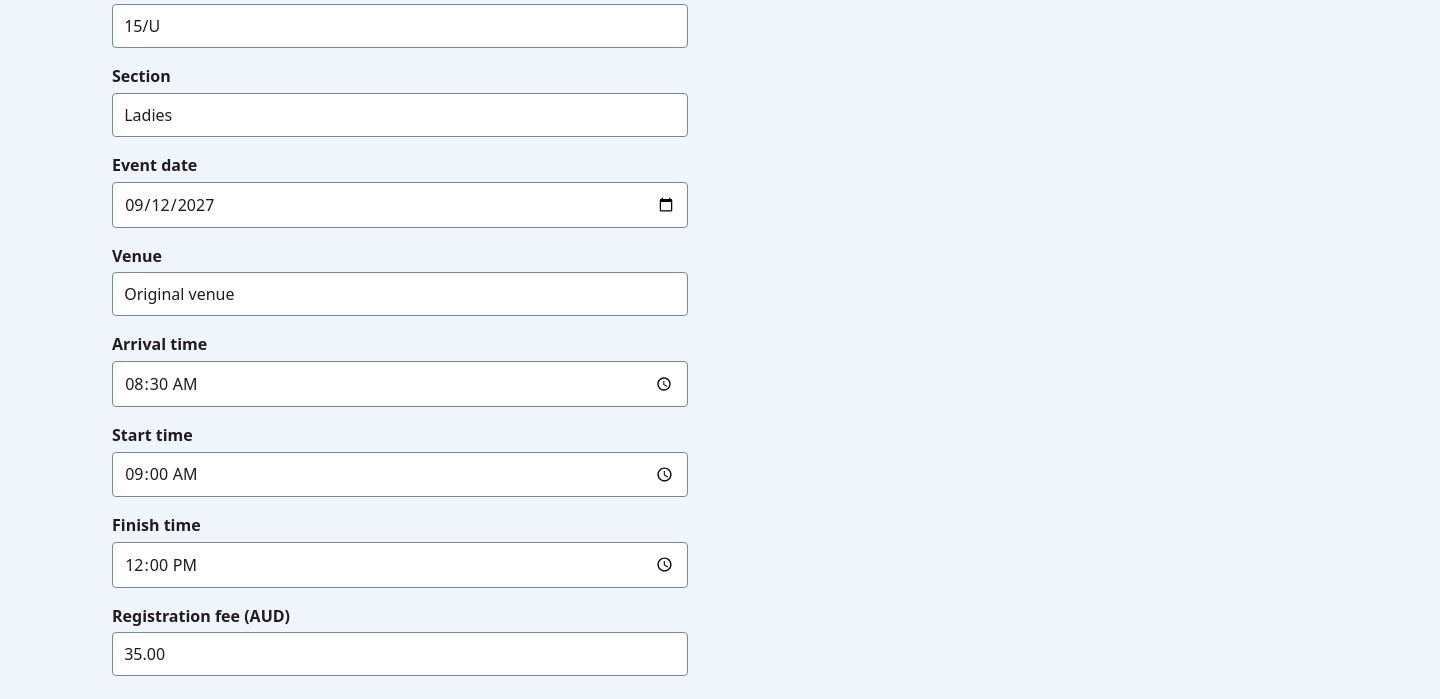
prevents event edits during a pending save and preserves the submitted fields on failure
The width and height of the screenshot is (1440, 699).
(page scrolled)
Replace the text in the field labelled "Venue" with "Submitted venue" at (400, 294), box x1=112 y1=272 x2=688 y2=316
(page scrolled)
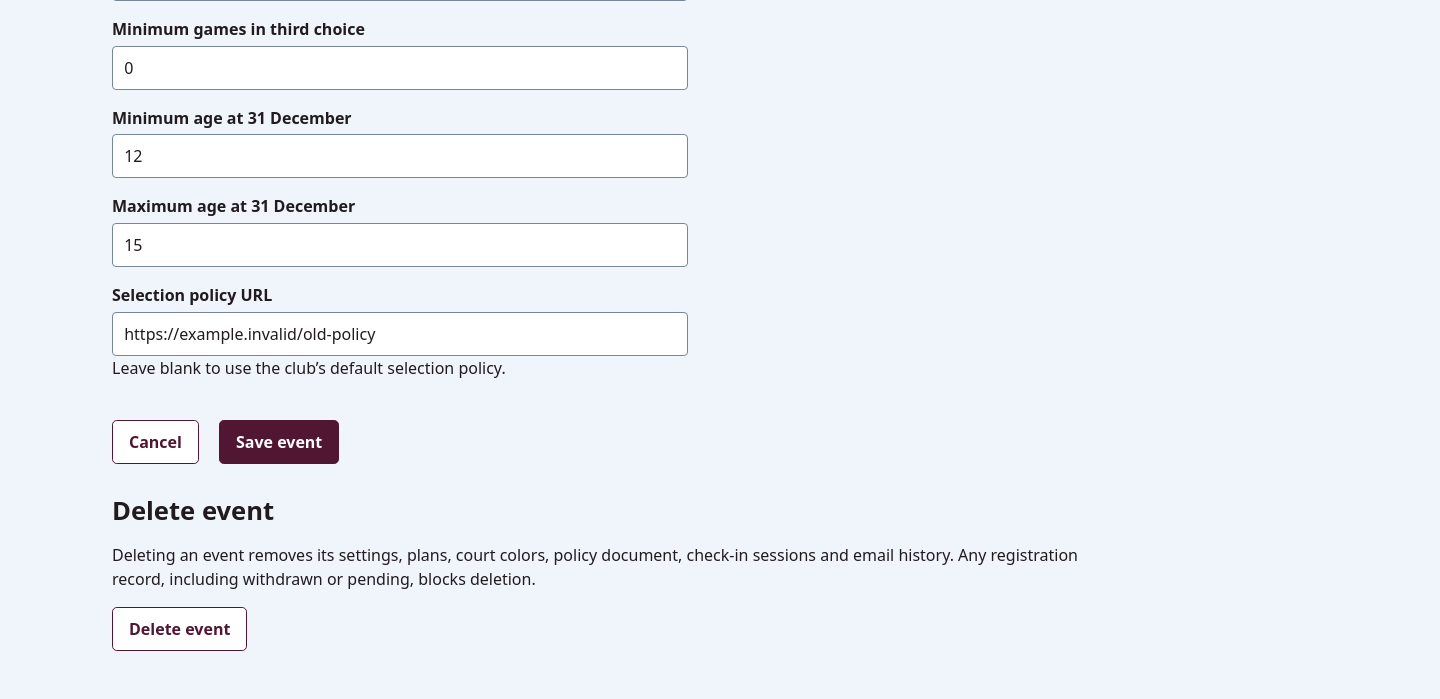
Click the button "Save event".
click(279, 442)  # box x1=219 y1=420 x2=339 y2=464
(page scrolled)
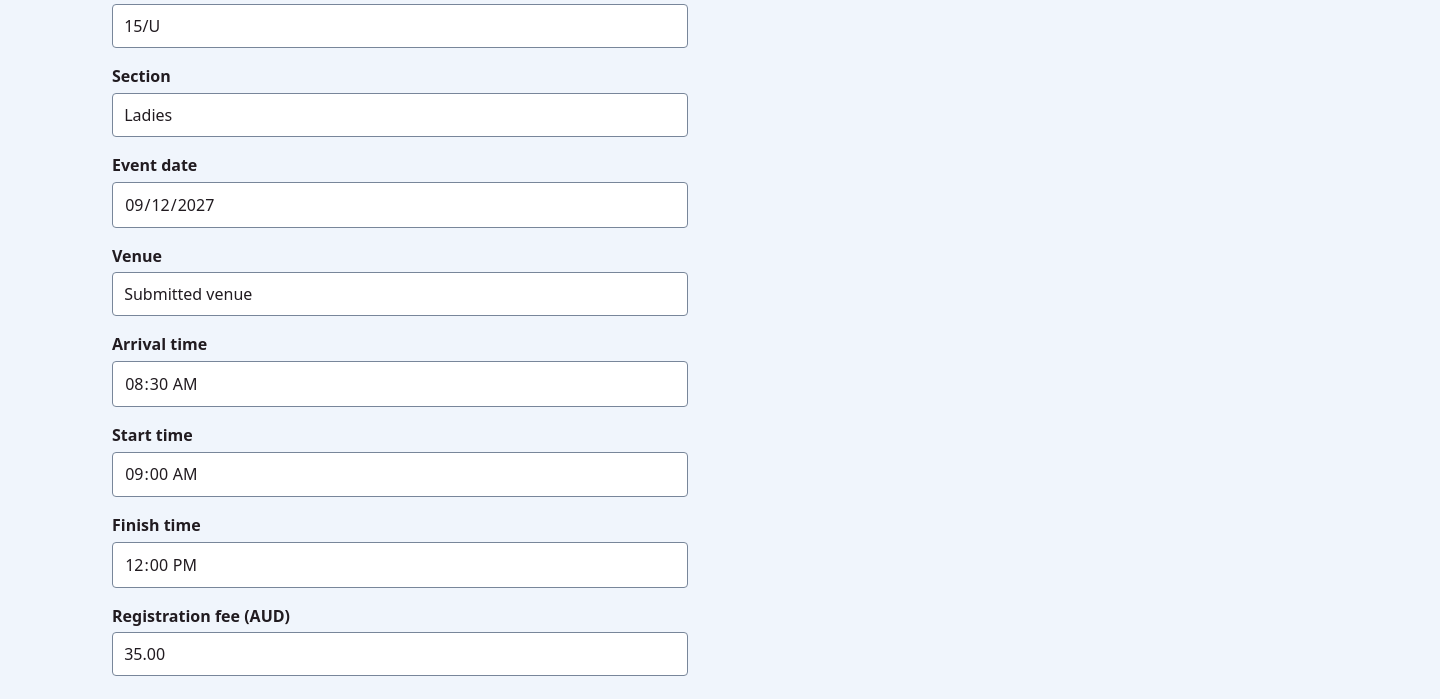
Replace the text in the field labelled "Venue" with "Late correction" at (400, 294), box x1=112 y1=272 x2=688 y2=316
(page scrolled)
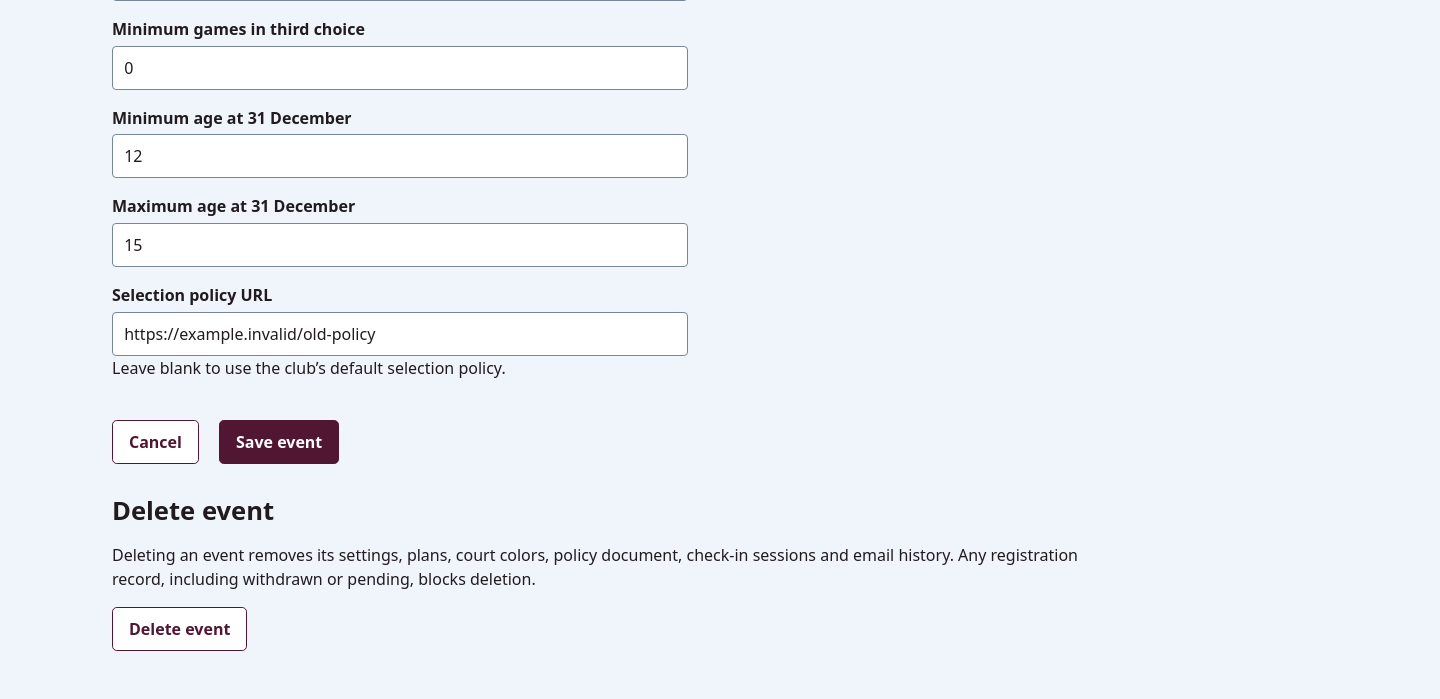
Click the button "Save event".
click(279, 442)  # box x1=219 y1=420 x2=339 y2=464
(page scrolled)
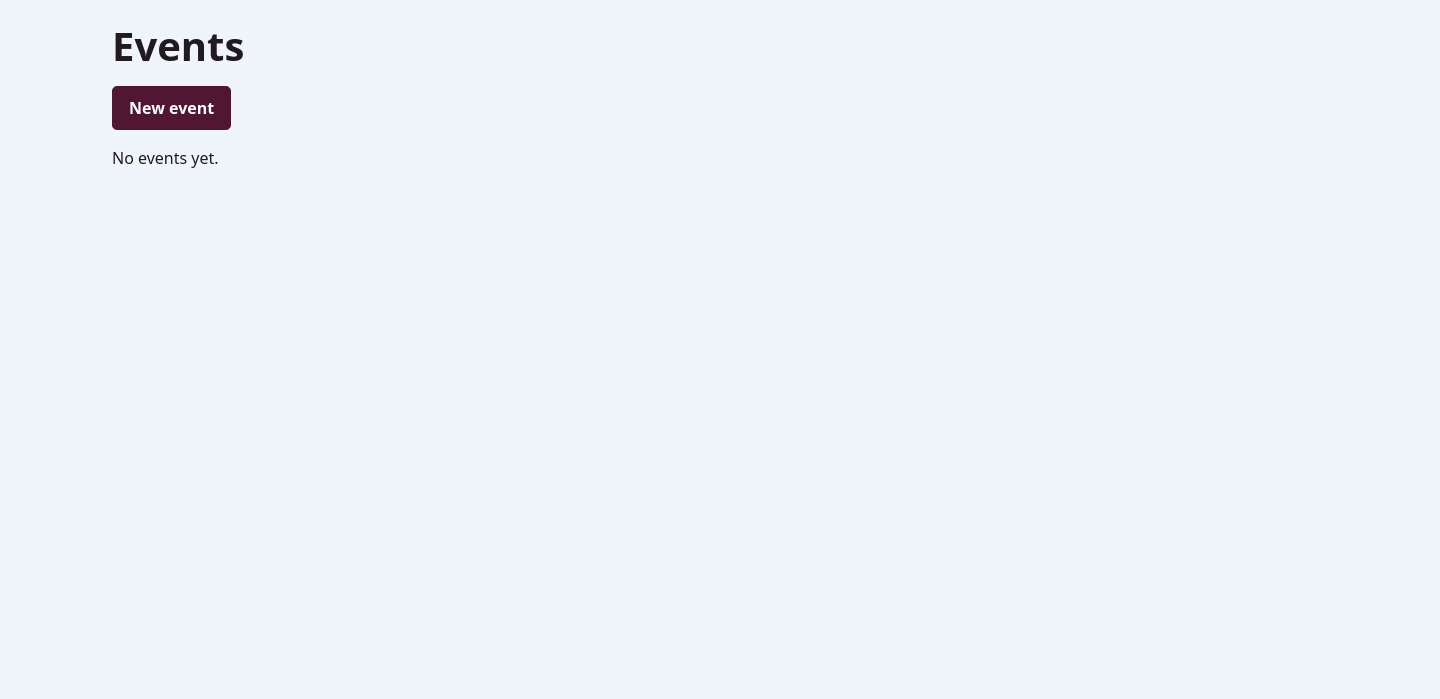
Check: the heading "Events" is shown, box x1=112 y1=18 x2=244 y2=73
